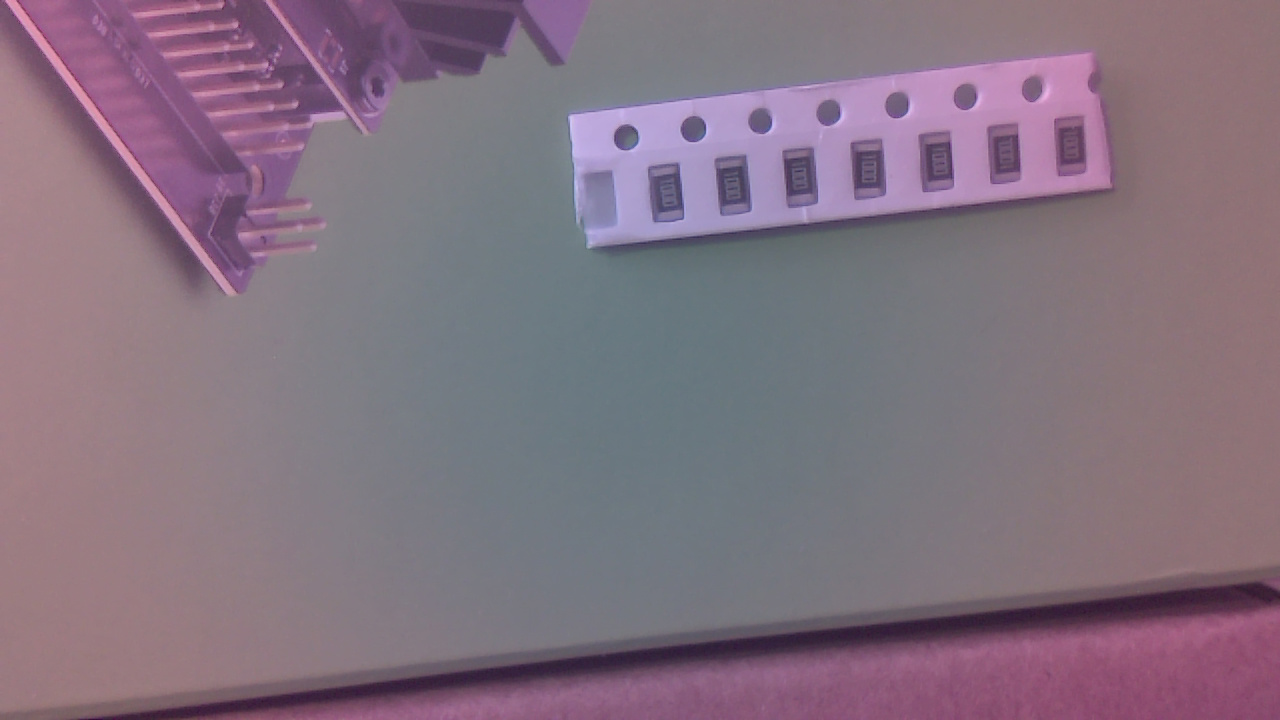Resistor: (714, 159, 759, 221), (987, 126, 1029, 191), (650, 165, 692, 229), (784, 149, 825, 213), (921, 133, 961, 198), (855, 141, 892, 206), (1057, 118, 1095, 181)
